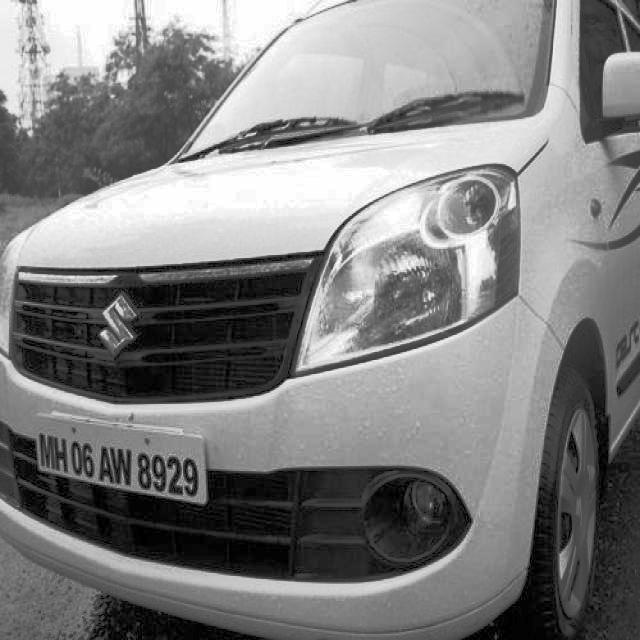Car: (1, 4, 639, 640)
